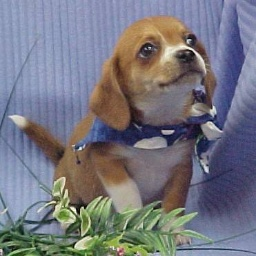dog: (8, 15, 220, 235)
